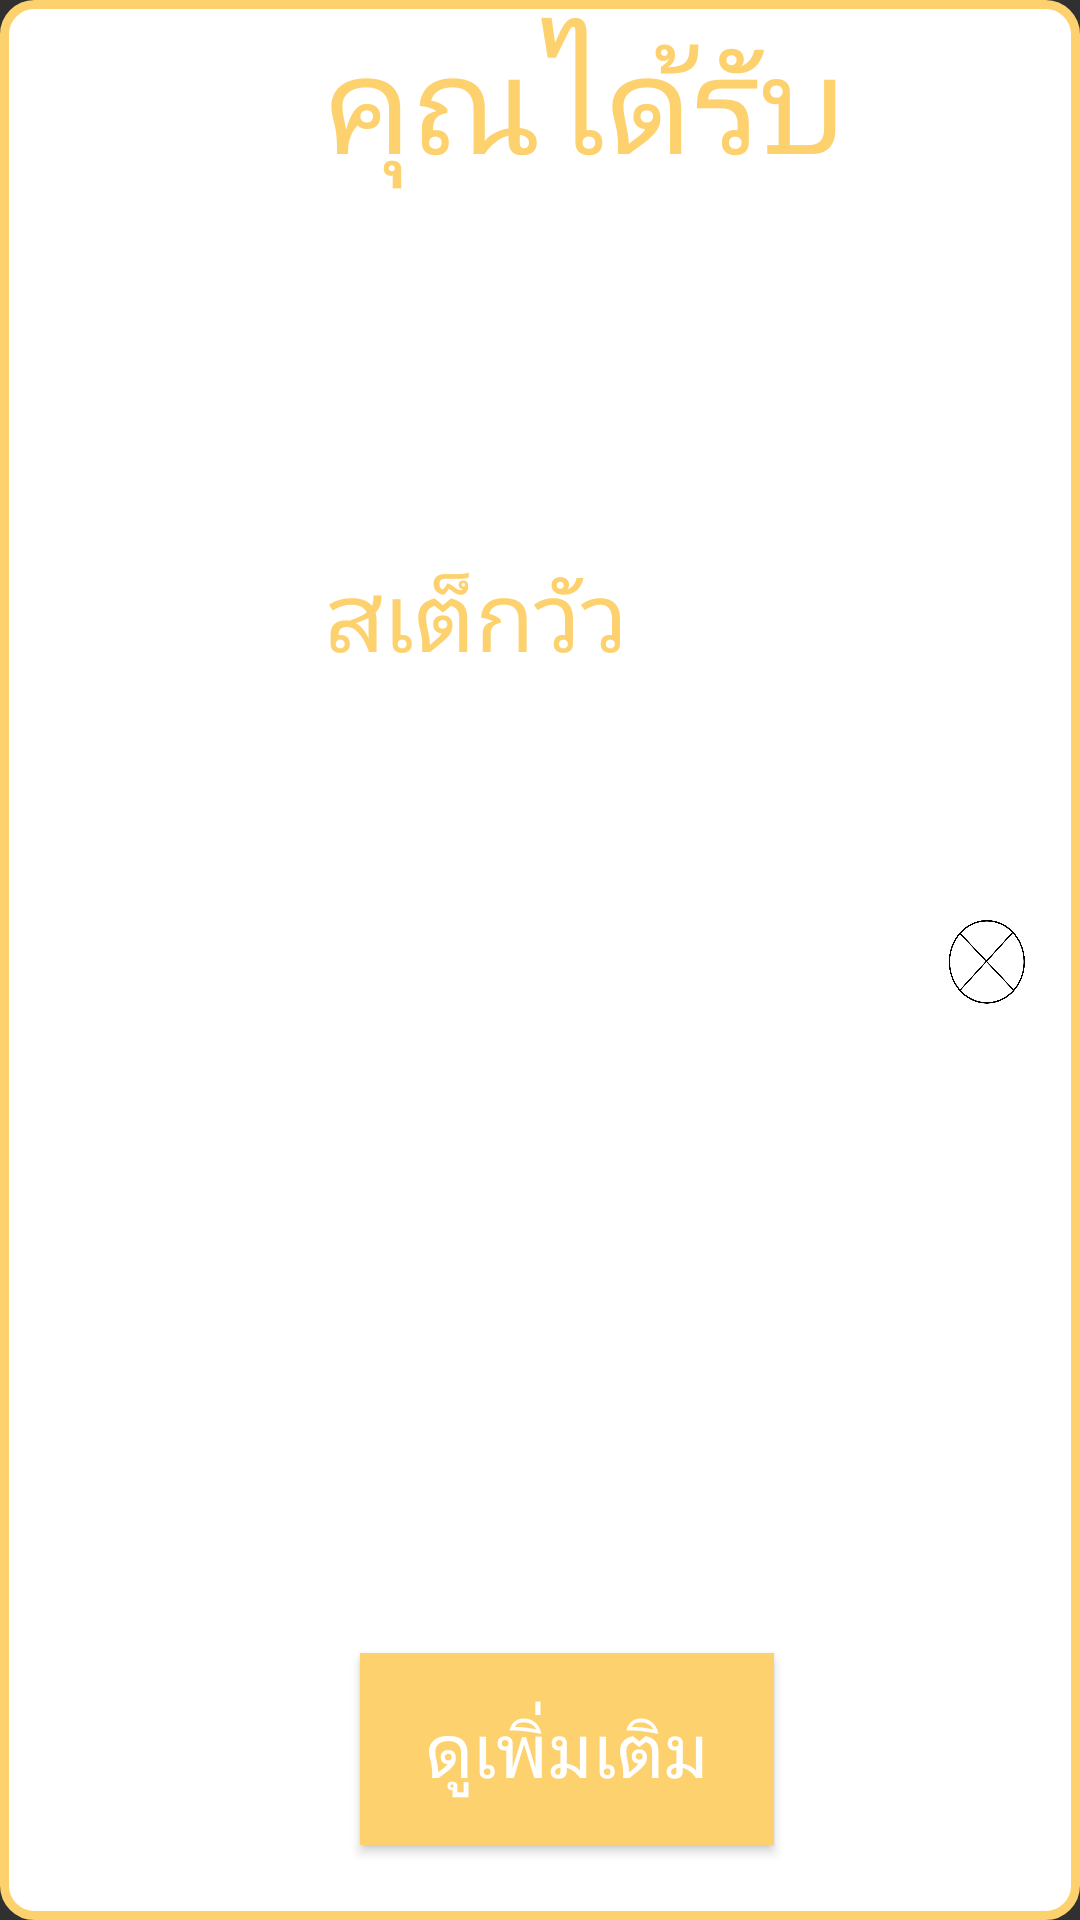

Where icons sit on this 1080 x 1920 app screen, as Rect(x1, y1, x2, y2):
xbutton: Rect(949, 920, 1025, 1004)
